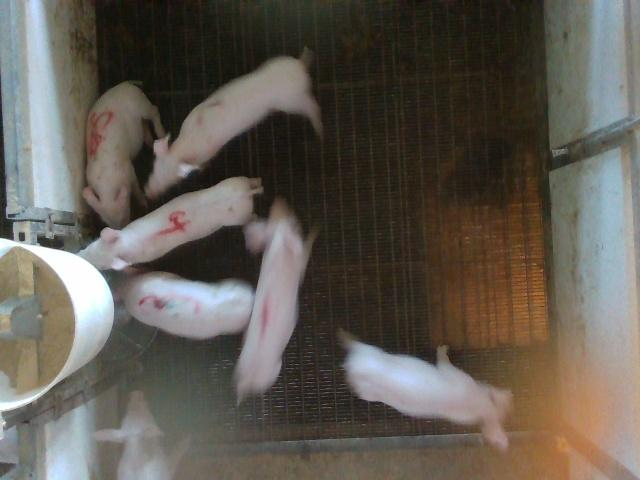pig-1: (235, 198, 316, 402)
pig-2: (145, 49, 322, 199)
pig-3: (119, 271, 255, 338)
pig-4: (79, 178, 262, 270)
pig-5: (82, 81, 165, 228)
